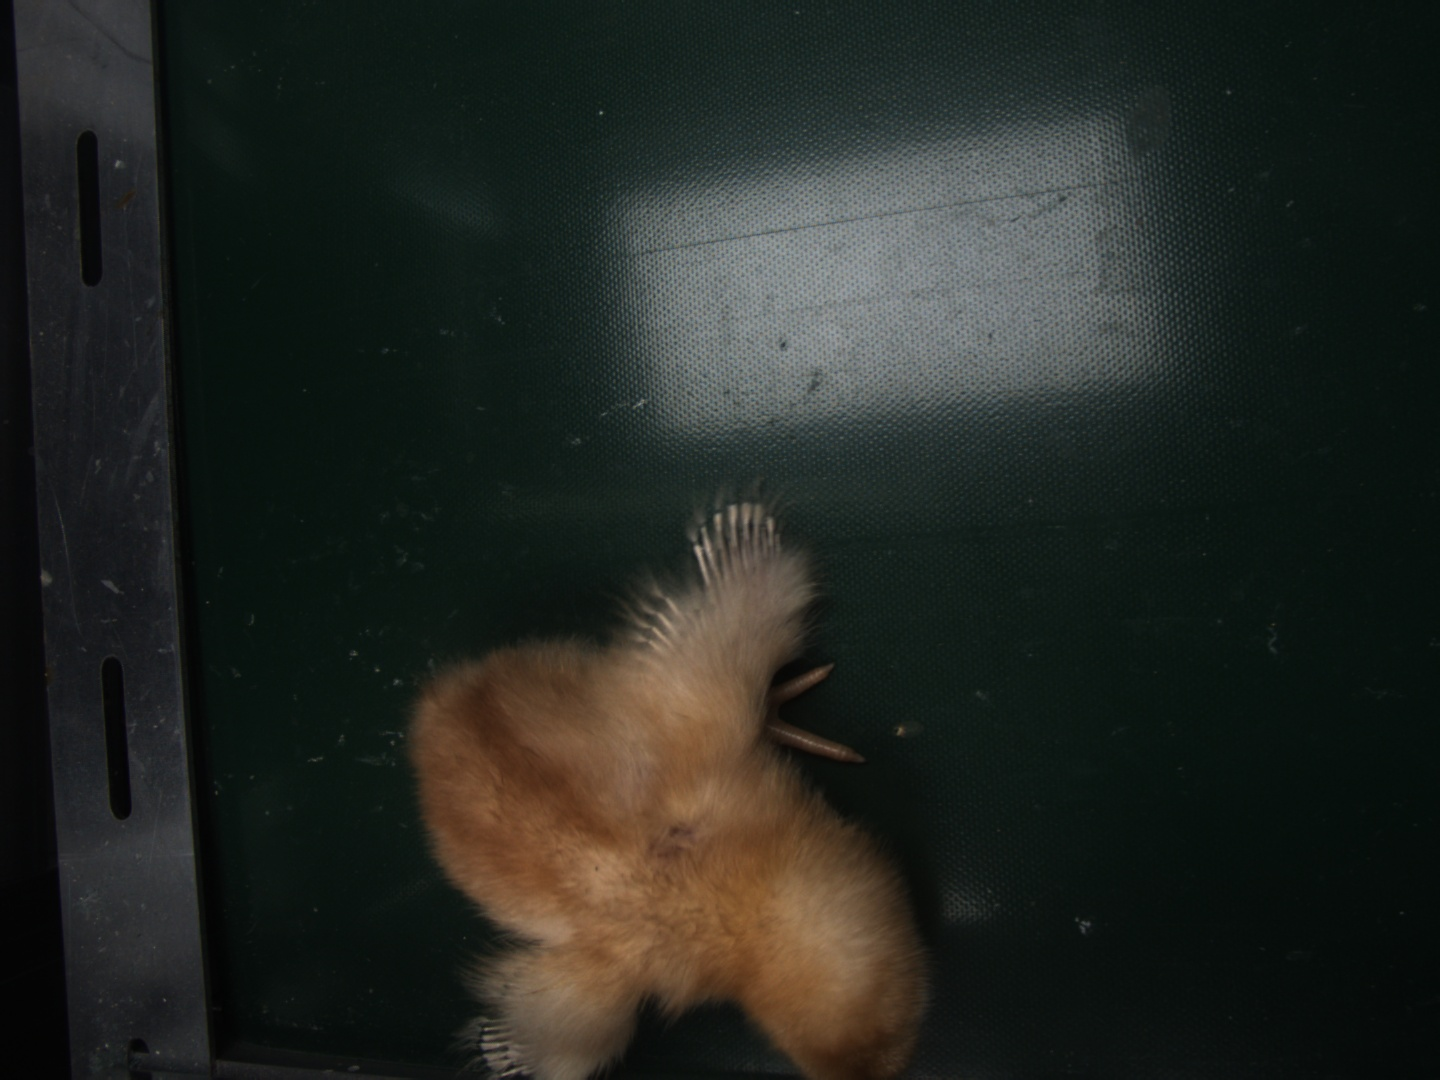female: (691, 503, 782, 589)
